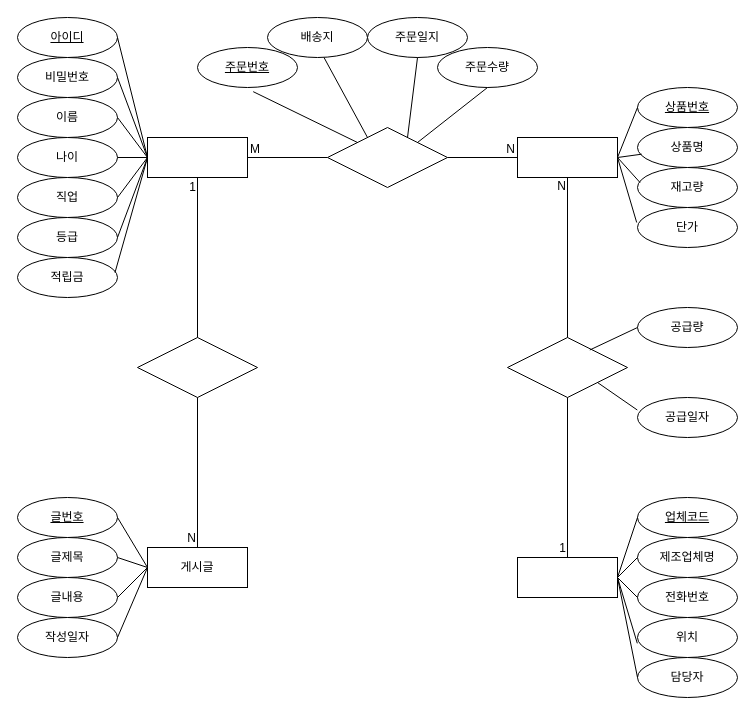
Some shapes in this 755 by 715 pixel diagram are drawn without their labels. Here are the shapes that lost their labels. From the top down, the centre of each, then its label:
At (197,157): "회원".
At (387,157): "주문".
At (567,157): "상품".
At (197,367): "작성".
At (567,367): "공급".
At (567,577): "제조업체".
